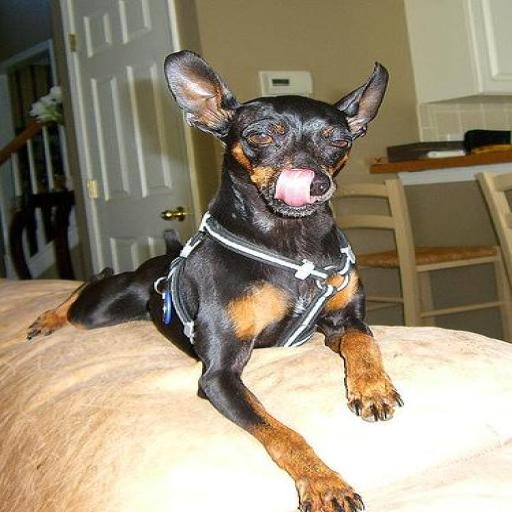dog_face: (164, 52, 377, 222)
